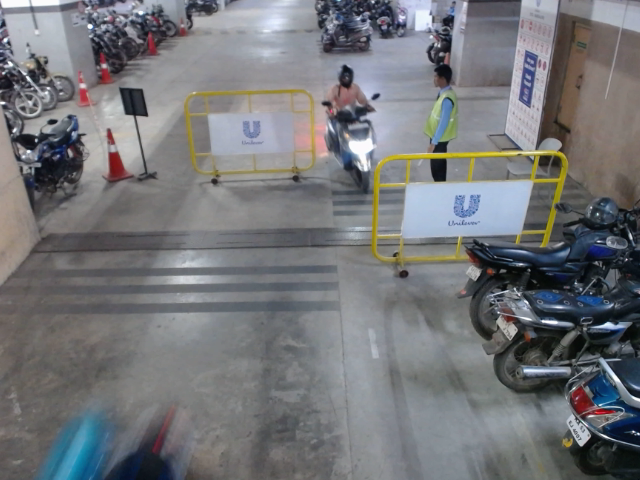with_helmet: (333, 63, 358, 88)
